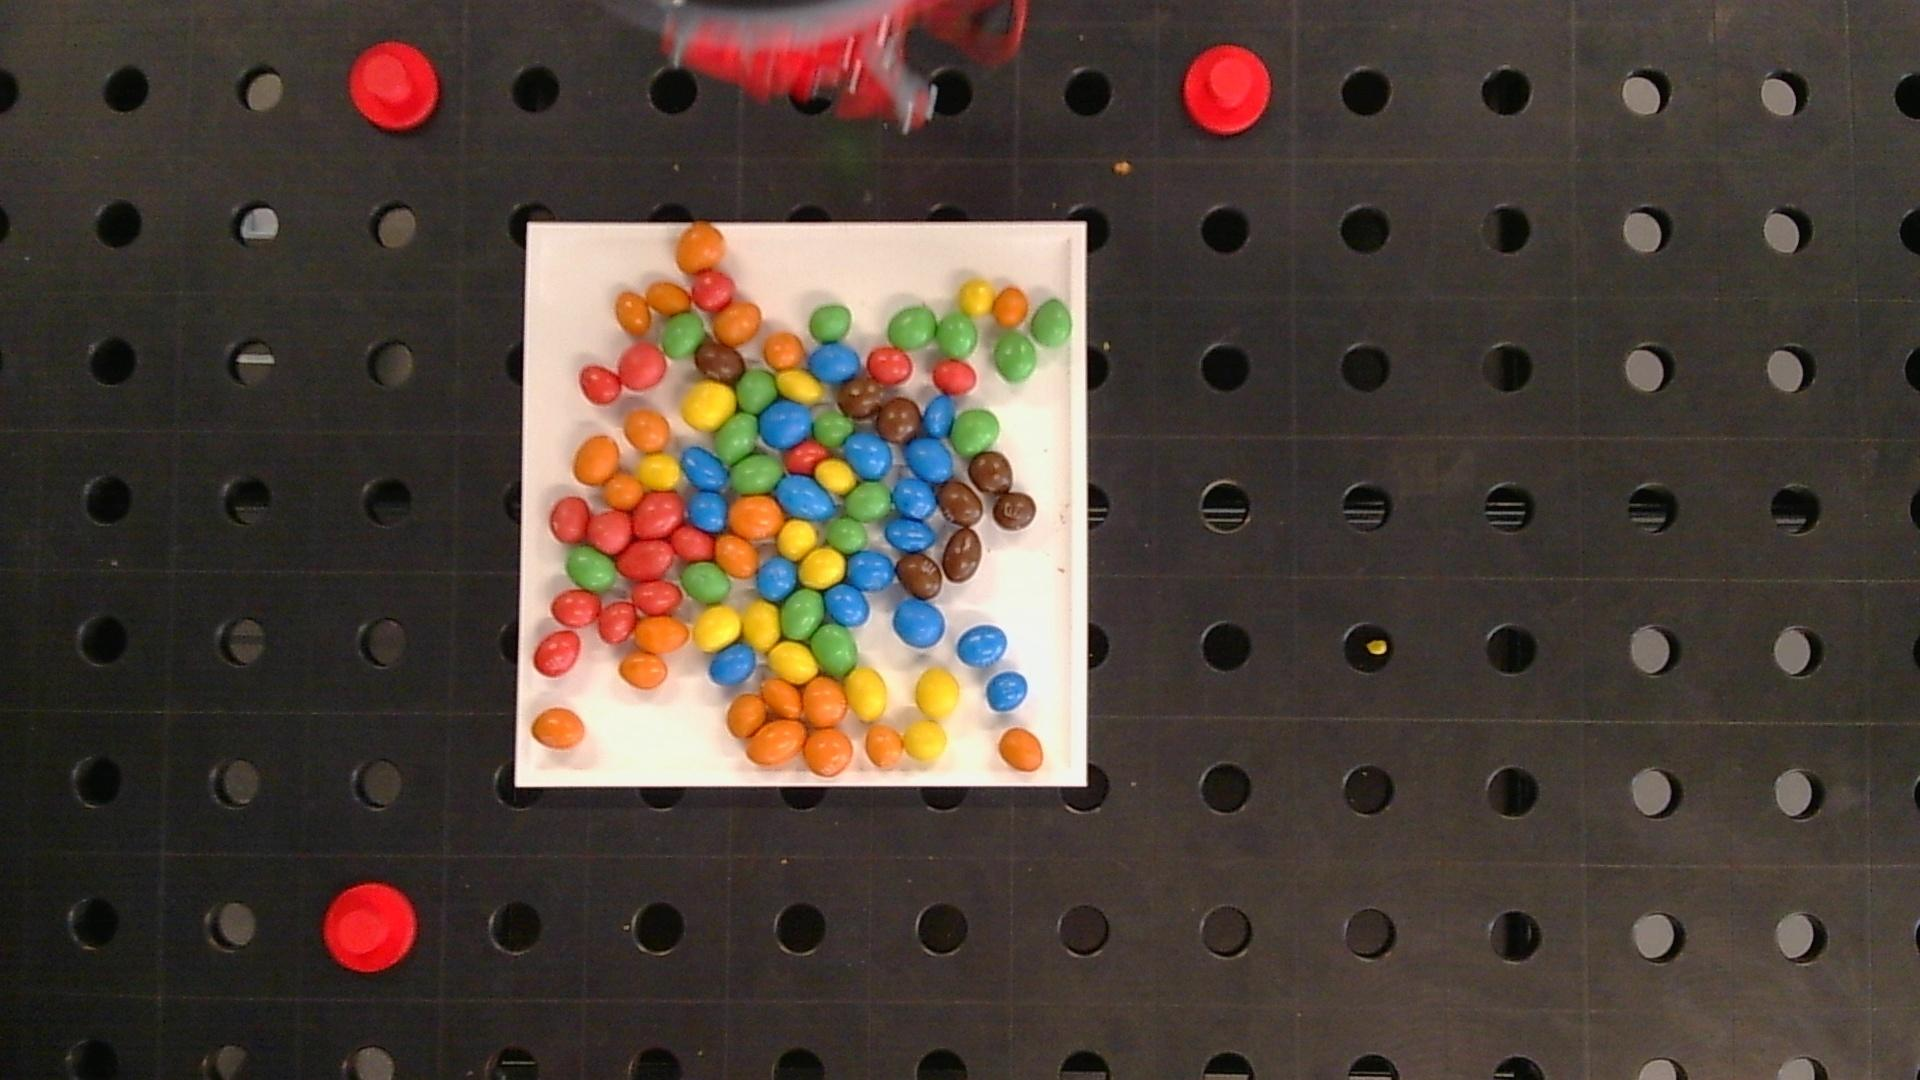blue: (777, 473, 836, 520), (893, 599, 945, 647), (760, 402, 812, 447), (905, 438, 953, 483), (845, 433, 891, 479), (708, 644, 757, 684), (957, 625, 1006, 666), (810, 344, 861, 381), (893, 477, 938, 520), (682, 448, 728, 489), (847, 551, 894, 591), (825, 585, 869, 626), (757, 558, 798, 600), (886, 518, 935, 553), (687, 489, 727, 530), (988, 673, 1027, 711), (923, 397, 955, 438)
brown: (942, 529, 981, 582), (939, 480, 984, 526), (898, 554, 942, 600), (878, 398, 922, 442), (840, 377, 882, 418), (969, 452, 1011, 493), (698, 343, 744, 380), (993, 492, 1036, 530)
green: (812, 624, 857, 675), (953, 410, 1000, 458), (993, 332, 1036, 382), (781, 589, 824, 640), (715, 413, 758, 463), (567, 547, 616, 591), (887, 306, 936, 348), (682, 563, 732, 604), (731, 455, 782, 493), (661, 313, 704, 357), (938, 313, 978, 359), (1031, 301, 1072, 345), (845, 483, 893, 521), (736, 371, 775, 411), (810, 305, 852, 343), (827, 517, 866, 553), (812, 411, 853, 446)
orange: (746, 720, 806, 765), (803, 674, 849, 727), (676, 222, 725, 270), (728, 496, 783, 538), (804, 728, 853, 775), (531, 708, 585, 749), (574, 436, 618, 484), (1000, 728, 1044, 771), (713, 303, 761, 343), (636, 616, 688, 651), (715, 534, 758, 576), (620, 653, 667, 690), (625, 410, 669, 450), (865, 725, 903, 767), (728, 694, 766, 736), (616, 293, 651, 336), (762, 678, 800, 716), (604, 472, 642, 508), (764, 332, 803, 367), (647, 282, 691, 313), (994, 287, 1027, 324)
red: (633, 493, 684, 537), (617, 541, 673, 580), (618, 344, 666, 388), (534, 632, 580, 675), (588, 510, 632, 553), (550, 497, 589, 542), (551, 591, 600, 626), (866, 347, 913, 382), (579, 365, 621, 404), (692, 272, 735, 310), (632, 580, 679, 613), (597, 603, 636, 644), (934, 360, 977, 394), (670, 525, 713, 559), (786, 440, 829, 472)
yellow: (683, 382, 736, 429), (915, 669, 960, 719), (845, 667, 886, 721), (694, 607, 741, 650), (799, 547, 845, 588), (770, 644, 818, 682), (742, 603, 779, 649), (903, 721, 947, 760), (778, 521, 818, 559), (777, 371, 822, 402), (815, 459, 856, 493), (638, 454, 679, 488), (957, 280, 996, 315)
